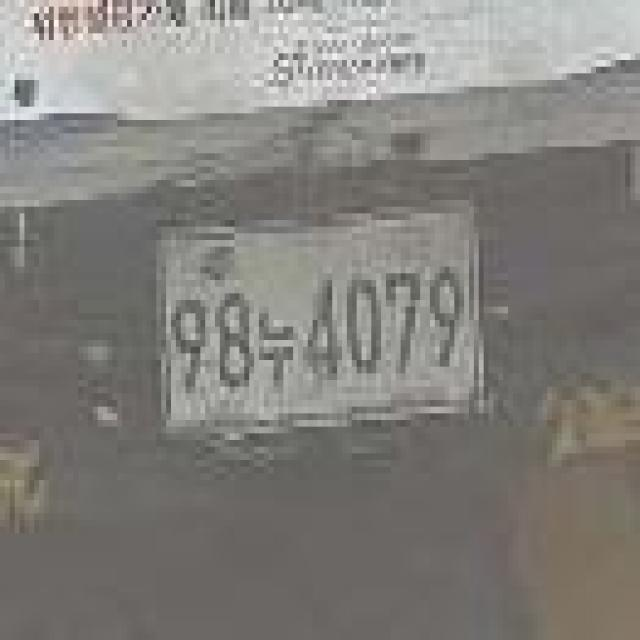0: (345, 270, 386, 380)
4: (302, 271, 342, 384)
7: (387, 268, 422, 382)
8: (213, 288, 254, 392)
9: (425, 260, 470, 383), (170, 294, 210, 392)
license_plate: (152, 196, 491, 441)
nu: (258, 302, 300, 388)
